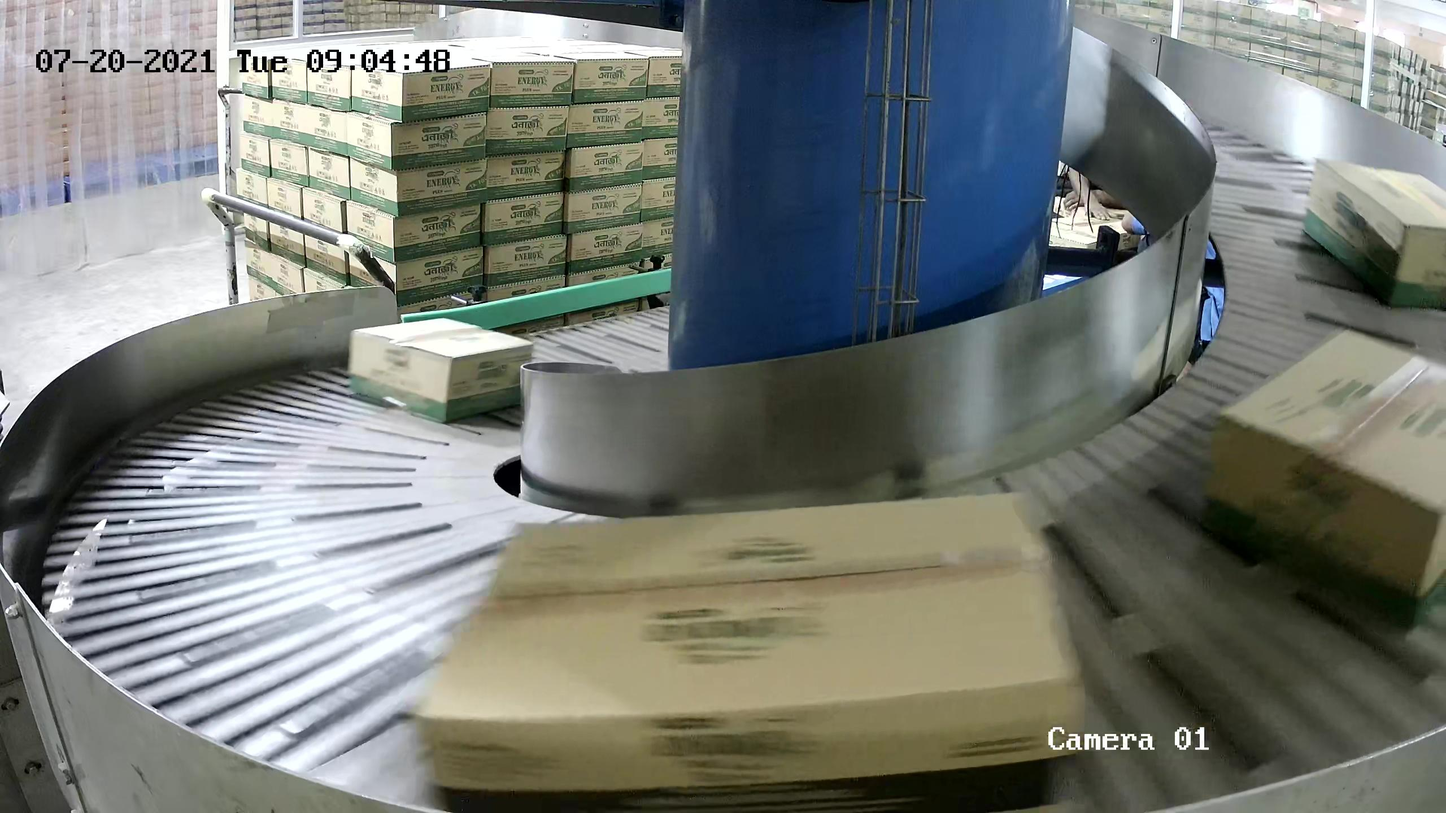Box: (415, 489, 1073, 813), (1198, 326, 1446, 639), (1302, 152, 1446, 313), (347, 317, 535, 426)
